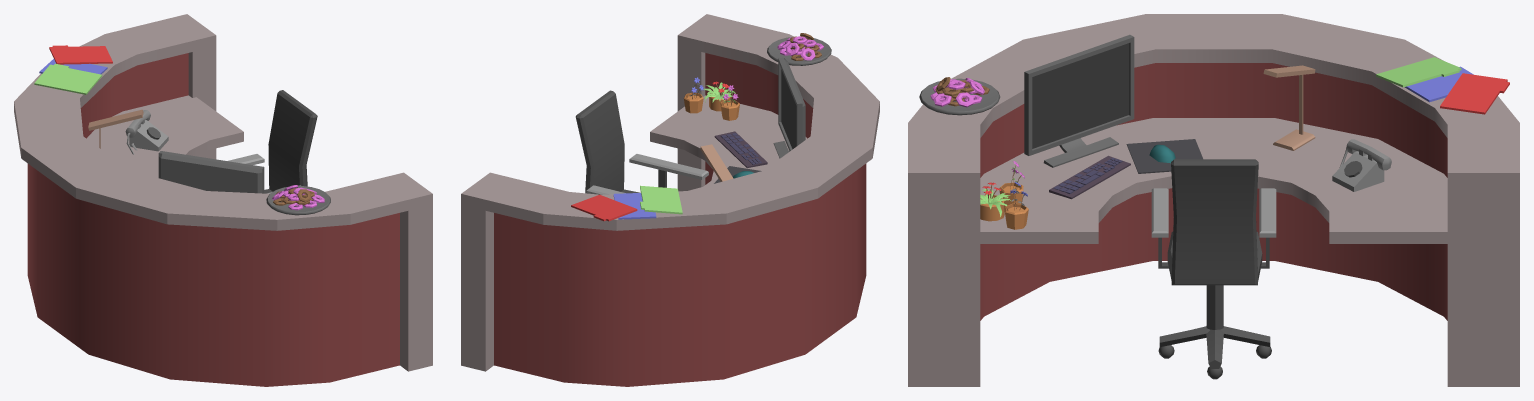
The model's file is ReceptionTest.fbx.
3 renders of one model, left to right at view 1: azimuth 30°, elevation 25°; view 2: azimuth 150°, elevation 25°; view 3: azimuth 270°, elevation 25°, orthographic. The views are drawn at different scales.
Parts seen in each view (by area): view 1: SM_RecepetionDesk, SM_OfficeChair, SM_ModernPC, SM_Donuts, SM_SingleFileYellow2, SM_OldPhone, SM_SingleFileYellow1, SM_NewLamp, SM_SingleFileYellow; view 2: SM_RecepetionDesk, SM_OfficeChair, SM_ModernPC, SM_Donuts, SM_SingleFileYellow2, SM_SingleFileYellow1, SM_ModernKeyBoard, SM_SingleFileYellow, SM_NewLamp, SM_FlowerShelf1, SM_Potplant1, SM_Potplant; view 3: SM_RecepetionDesk, SM_OfficeChair, SM_ModernPC, SM_Donuts, SM_OldPhone, SM_SingleFileYellow1, SM_MousePad, SM_ModernKeyBoard, SM_SingleFileYellow2, SM_NewLamp, SM_SingleFileYellow, SM_FlowerShelf1 (+1 smaller).
Boxes of the visible parts, bbox=[...] form: SM_RecepetionDesk: bbox=[14, 14, 432, 386]; SM_OfficeChair: bbox=[227, 90, 317, 193]; SM_ModernPC: bbox=[158, 151, 264, 193]; SM_Donuts: bbox=[266, 185, 330, 215]; SM_SingleFileYellow2: bbox=[34, 63, 102, 94]; SM_OldPhone: bbox=[125, 110, 168, 154]; SM_SingleFileYellow1: bbox=[49, 45, 112, 64]; SM_NewLamp: bbox=[88, 109, 143, 148]; SM_SingleFileYellow: bbox=[39, 59, 107, 74]; SM_RecepetionDesk: bbox=[461, 14, 879, 386]; SM_OfficeChair: bbox=[575, 90, 708, 194]; SM_ModernPC: bbox=[773, 57, 805, 158]; SM_Donuts: bbox=[767, 33, 831, 65]; SM_SingleFileYellow2: bbox=[640, 185, 682, 214]; SM_SingleFileYellow1: bbox=[571, 194, 637, 221]; SM_ModernKeyBoard: bbox=[714, 131, 767, 167]; SM_SingleFileYellow: bbox=[613, 193, 656, 219]; SM_NewLamp: bbox=[700, 144, 733, 181]; SM_FlowerShelf1: bbox=[703, 81, 735, 111]; SM_Potplant1: bbox=[683, 77, 703, 113]; SM_Potplant: bbox=[720, 85, 739, 120]; SM_RecepetionDesk: bbox=[908, 14, 1519, 386]; SM_OfficeChair: bbox=[1151, 159, 1276, 379]; SM_ModernPC: bbox=[1024, 34, 1134, 167]; SM_Donuts: bbox=[919, 77, 1000, 115]; SM_OldPhone: bbox=[1332, 139, 1391, 191]; SM_SingleFileYellow1: bbox=[1440, 73, 1509, 114]; SM_MousePad: bbox=[1126, 139, 1202, 173]; SM_ModernKeyBoard: bbox=[1049, 155, 1130, 199]; SM_SingleFileYellow2: bbox=[1376, 57, 1461, 87]; SM_NewLamp: bbox=[1263, 65, 1315, 150]; SM_SingleFileYellow: bbox=[1404, 66, 1473, 102]; SM_FlowerShelf1: bbox=[980, 182, 1010, 221].
Bounding box in the file's own units: 192 × 137 × 312.
